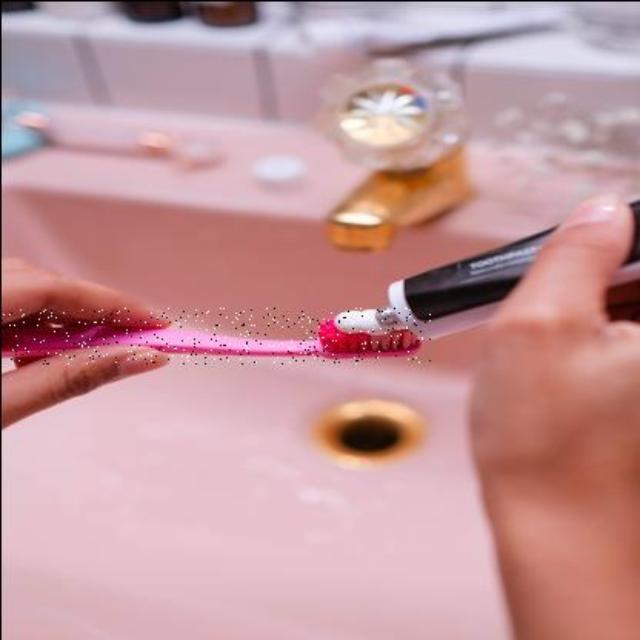toothbrush: (1, 307, 430, 363)
